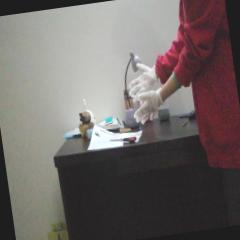gloved: (131, 88, 164, 126), (125, 61, 158, 98)
